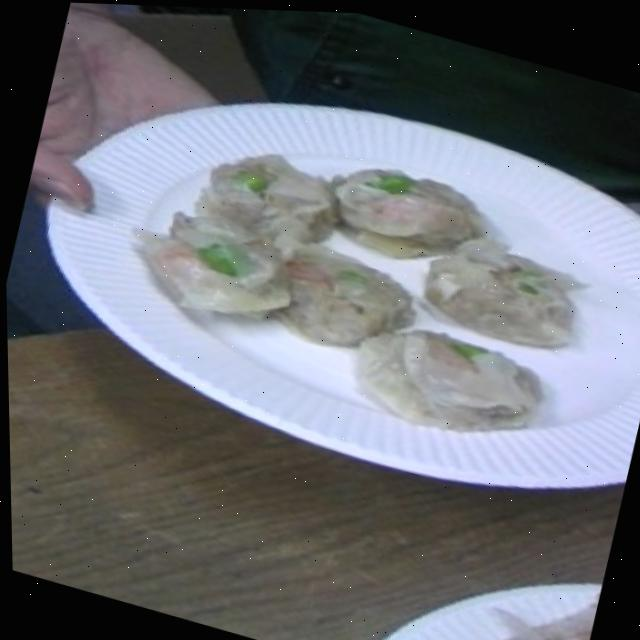带馅早点: (338, 293, 554, 468), (130, 183, 312, 336), (415, 220, 597, 362), (316, 145, 495, 278)
